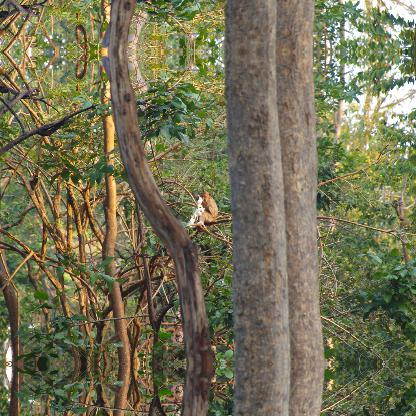Monkey: (196, 188, 218, 226)
